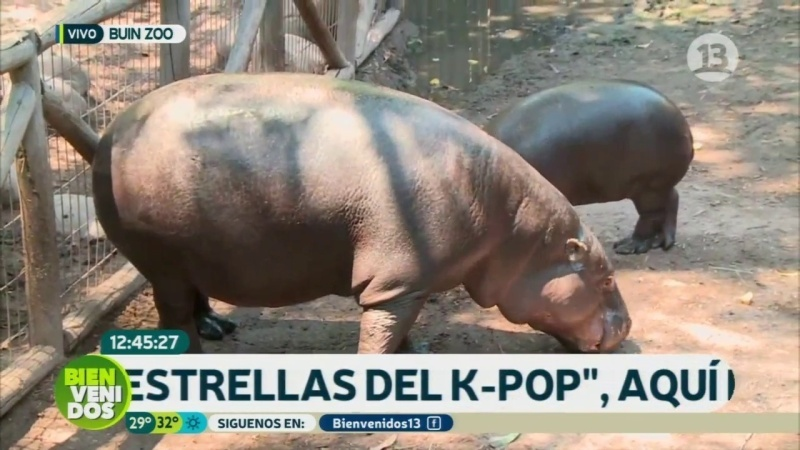hipopotamo: (83, 66, 639, 352), (474, 64, 710, 251)
